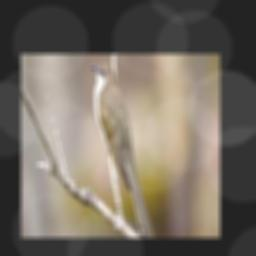Cuckoo: (89, 63, 154, 238)
